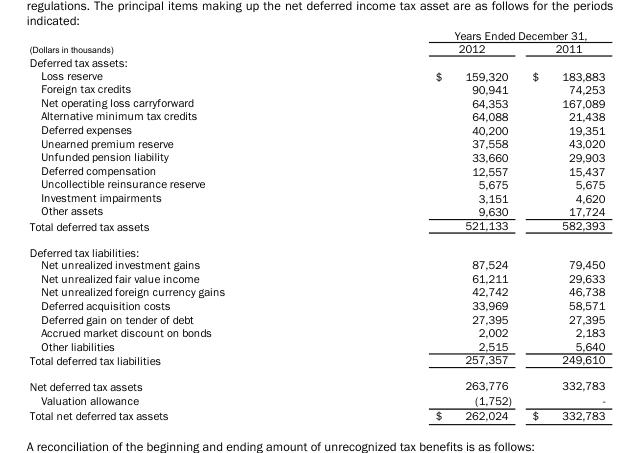table: (28, 28, 604, 421)
table column: (28, 28, 329, 421), (329, 28, 521, 421), (521, 28, 604, 421)
table column header: (28, 28, 604, 54)
table projected row header: (28, 238, 604, 258), (28, 54, 604, 68)
table row: (28, 217, 604, 238), (28, 372, 604, 393), (28, 238, 604, 258), (28, 352, 604, 372), (28, 54, 604, 68), (28, 68, 604, 82), (28, 95, 604, 109), (28, 122, 604, 136), (28, 149, 604, 163), (28, 176, 604, 190), (28, 203, 604, 217), (28, 284, 604, 298), (28, 311, 604, 325), (28, 338, 604, 352), (28, 393, 604, 407), (28, 407, 604, 421), (28, 28, 604, 41), (28, 41, 604, 54), (28, 82, 604, 95), (28, 109, 604, 122), (28, 136, 604, 149), (28, 163, 604, 176), (28, 190, 604, 203), (28, 258, 604, 271), (28, 271, 604, 284), (28, 298, 604, 311), (28, 325, 604, 338)
table spanning cell: (28, 28, 329, 54), (329, 28, 604, 41)
